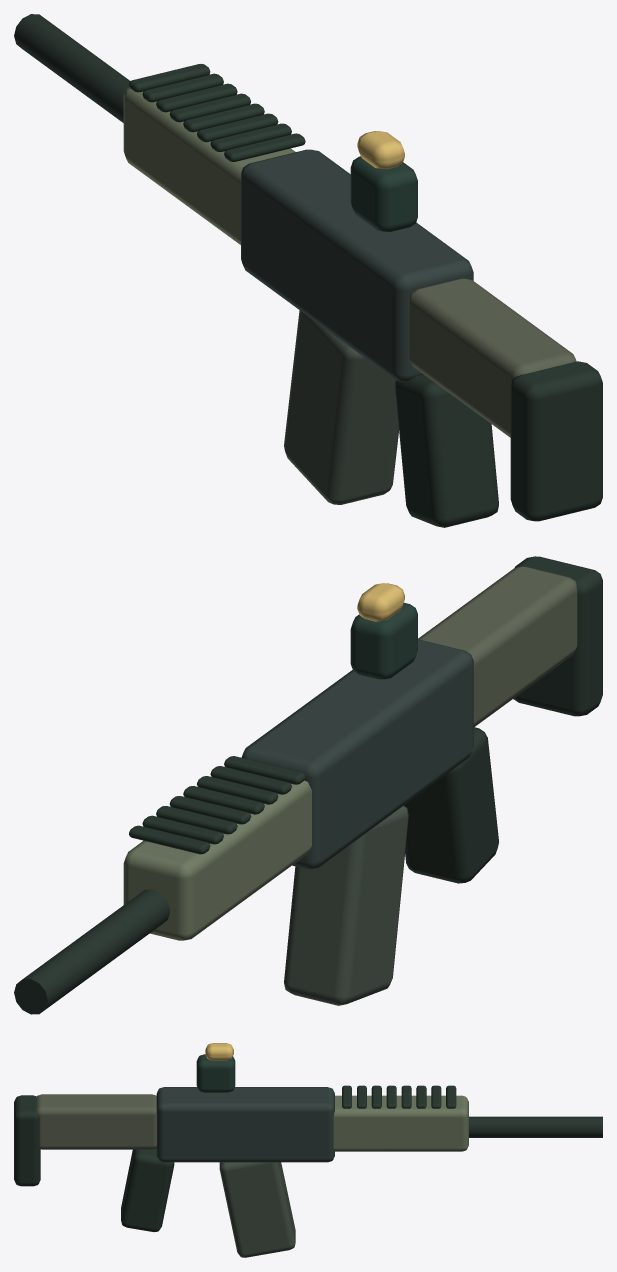
The model's file is SM_Libertad_W05.glb.
3 renders of one model, top to bottom at view 1: azimuth 30°, elevation 25°; view 2: azimuth 150°, elevation 25°; view 3: azimuth 270°, elevation 25°, orthographic. The views are drawn at different scales.
Parts seen in each view (by area): view 1: SM_Libertad_W05; view 2: SM_Libertad_W05; view 3: SM_Libertad_W05.
Boxes of the visible parts, x1,y1,x2,y2 form: SM_Libertad_W05: (14,14,602,527); SM_Libertad_W05: (14,556,602,1014); SM_Libertad_W05: (14,1043,602,1257).
Bounding box in the file's own units: 0.085 × 0.3841 × 0.9895.
